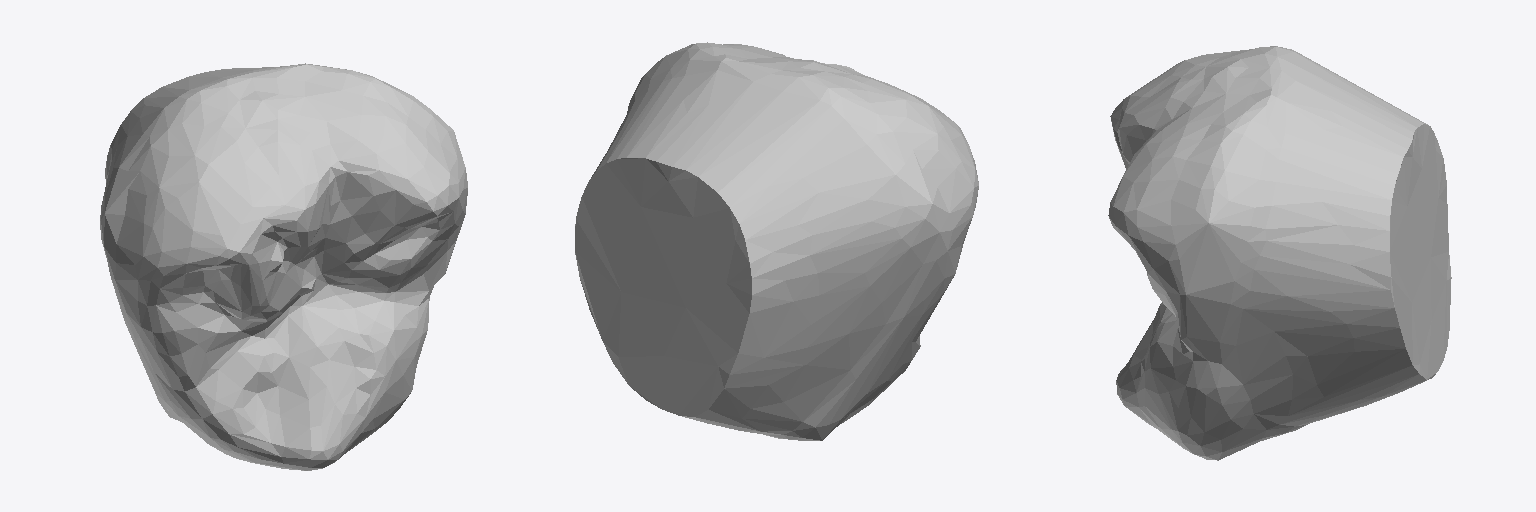
Rendered from local_t27_7780_si.OBJ.
The picture shows the model from 3 angles: view 1: azimuth 30°, elevation 25°; view 2: azimuth 150°, elevation 25°; view 3: azimuth 270°, elevation 25°; orthographic projection.
Visible parts, largest first — view 1: Group48678; view 2: Group48678; view 3: Group48678.
Part boxes in pixels (bbox=[...]): Group48678: bbox=[100, 63, 467, 470]; Group48678: bbox=[575, 42, 978, 440]; Group48678: bbox=[1108, 46, 1451, 460].
Bounding box in the file's own units: 10.01 × 10.9 × 9.16.